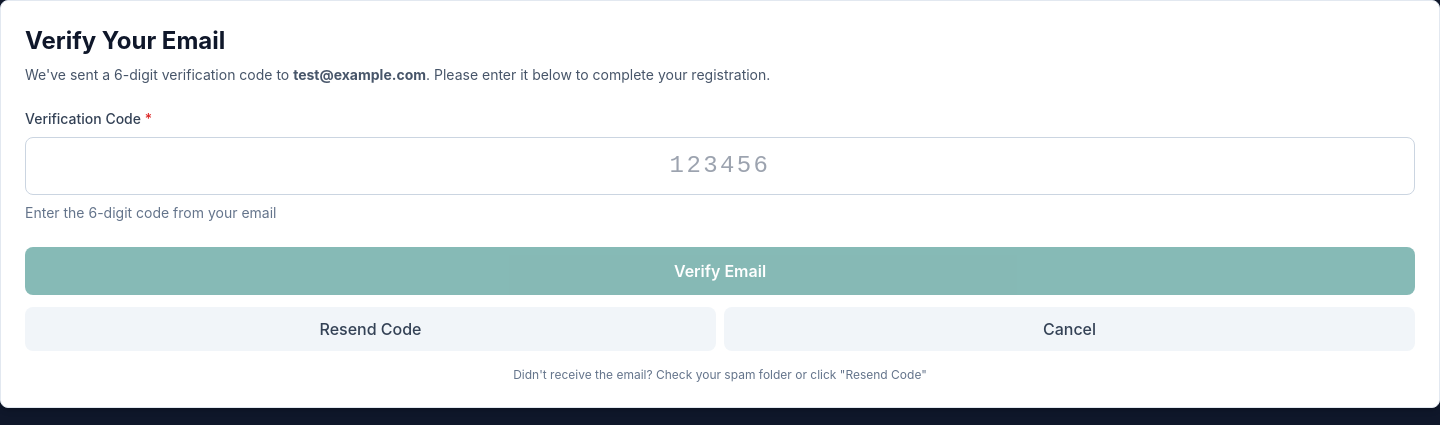
Test: VerificationCodeForm › only accepts numeric input
# Type each character individually to properly handle state updates
In the field labelled "Verification Code *": (720, 166) top-left (25, 137), bottom-right (1415, 195), type "12abc3"
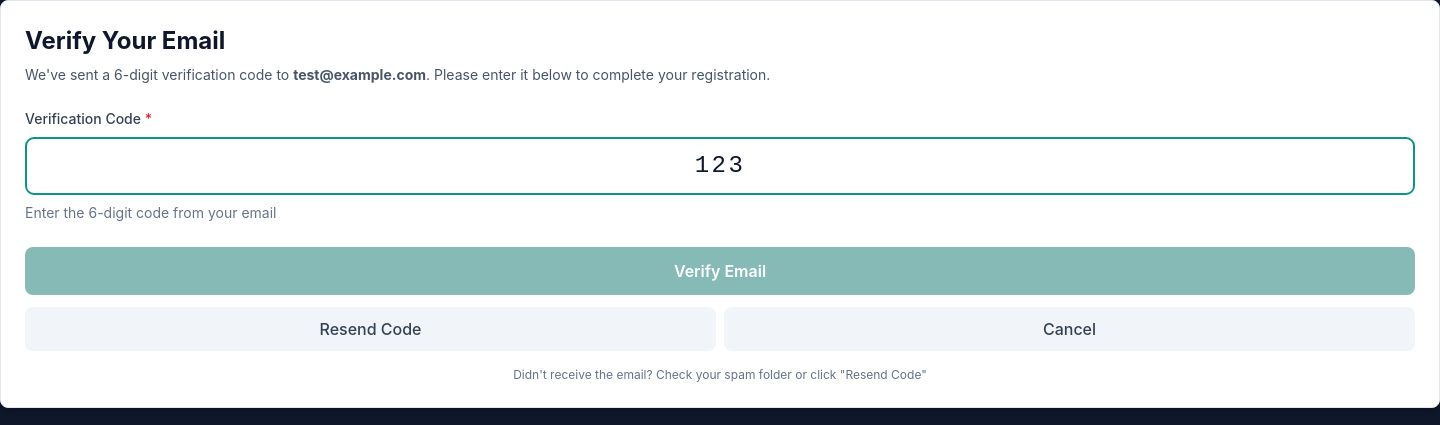
Now the field labelled "Verification Code *" holds "123", box top-left (25, 137), bottom-right (1415, 195)
